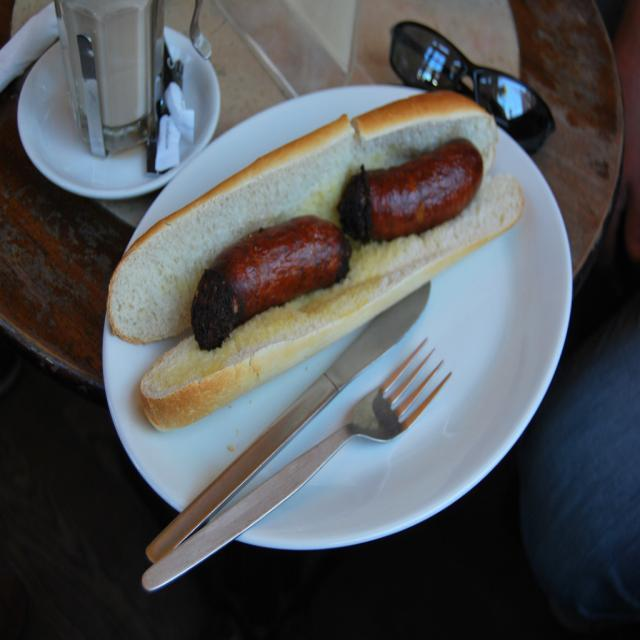Hot dog: (100, 92, 528, 436)
